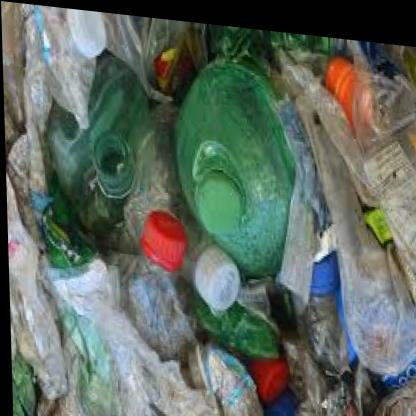Plastic: (160, 31, 324, 260), (34, 44, 166, 216), (120, 195, 208, 384)
